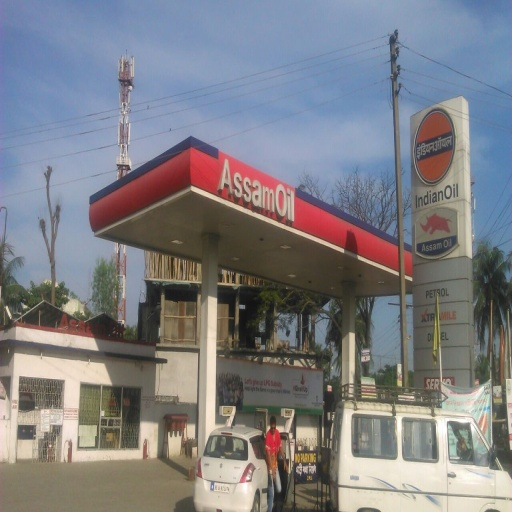roof: (88, 136, 474, 321)
